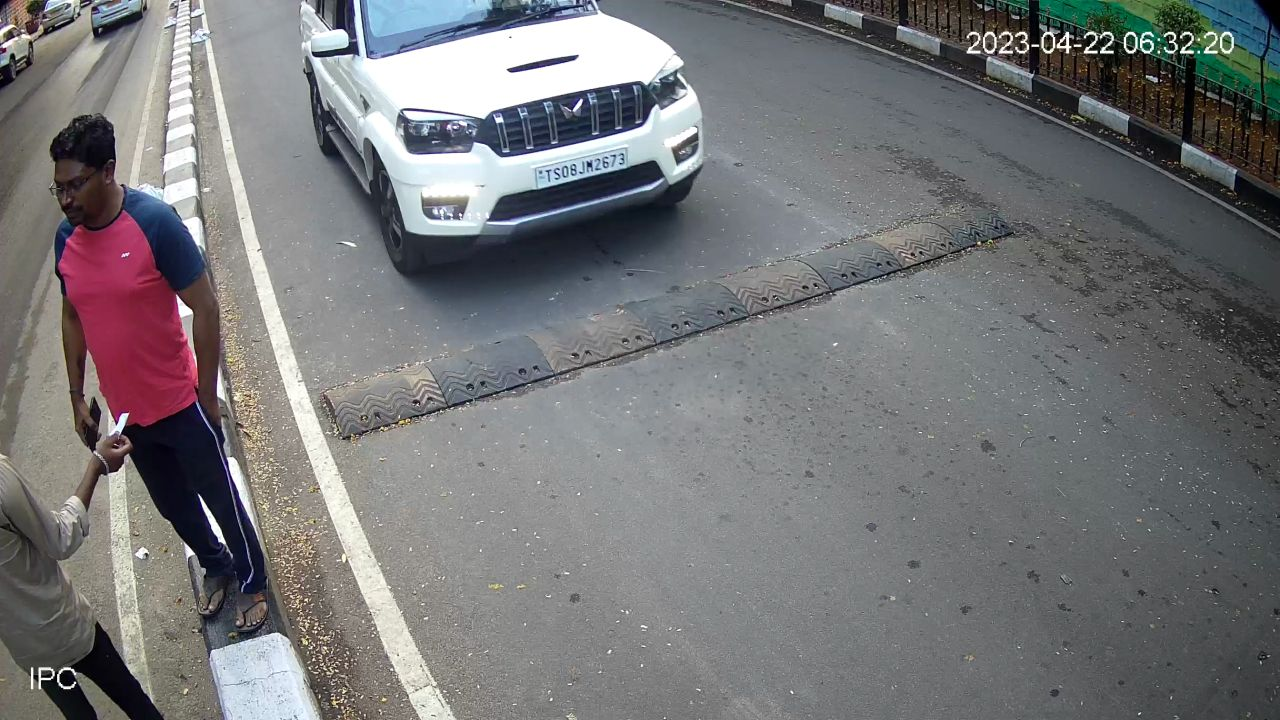license_plate: (526, 142, 636, 200)
